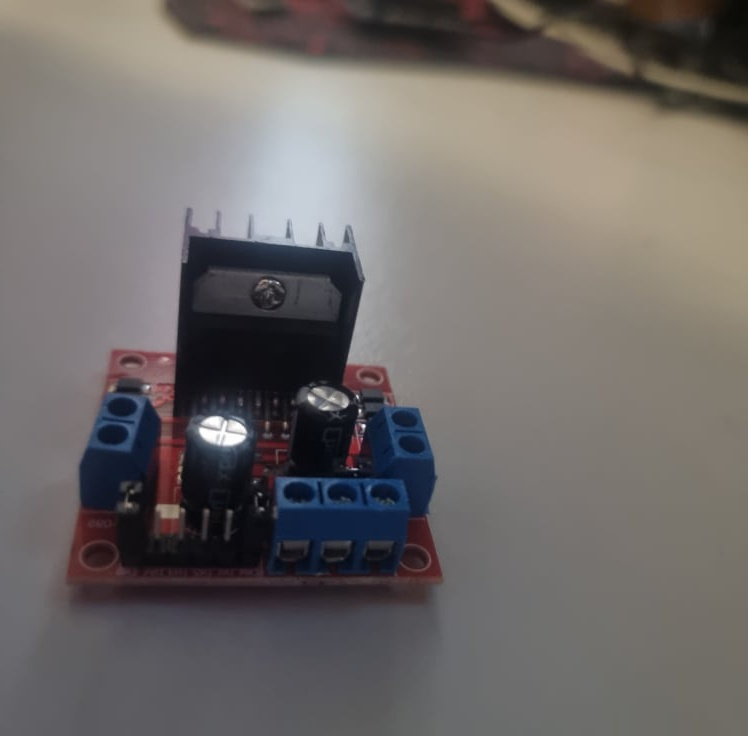MOTOR: (63, 208, 442, 592)
